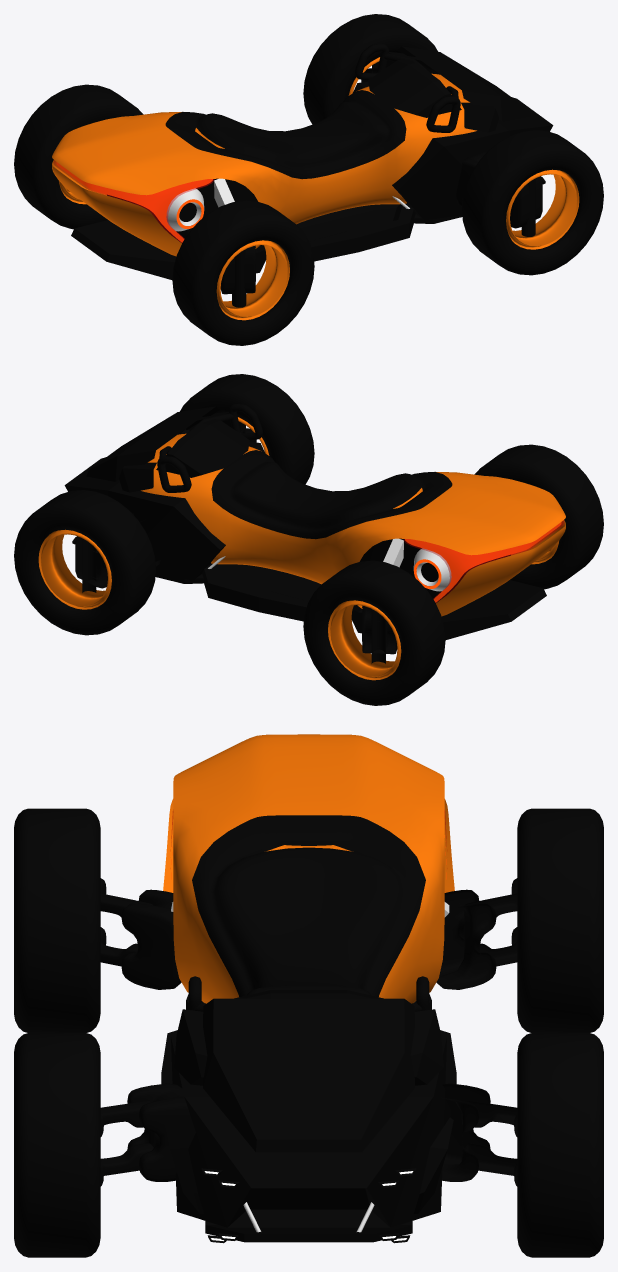
3 renders of one model, top to bottom at view 1: azimuth 30°, elevation 25°; view 2: azimuth 150°, elevation 25°; view 3: azimuth 270°, elevation 25°, orthographic. The views are drawn at different scales.
Parts seen in each view (by area): view 1: Cube.013_18, FR_5, BR_2, BL_1, FL_4, Cylinder.008_3, KPBR_7, KPFR_9; view 2: Cube.013_18, FL_4, BL_1, BR_2, FR_5, Cylinder.008_3, KPBL_6, KPFL_8; view 3: Cube.013_18, FL_4, FR_5, BL_1, BR_2, Cylinder.008_3, susL.001_15, susR.001_17, susL_14, susR_16.
Part boxes in pixels (x1,y1,x2,y2): Cube.013_18: (52,46,553,279); FR_5: (461,130,603,275); BR_2: (172,200,314,345); BL_1: (14,84,143,229); FL_4: (303,14,439,124); Cylinder.008_3: (355,44,460,132); KPBR_7: (220,246,255,307); KPFR_9: (510,176,542,236); Cube.013_18: (64,406,565,639); FL_4: (14,490,156,635); BL_1: (303,560,445,705); BR_2: (474,444,603,589); FR_5: (178,374,314,484); Cylinder.008_3: (157,404,262,492); KPBL_6: (362,606,397,663); KPFL_8: (75,536,107,592); Cube.013_18: (121,734,496,1243); FL_4: (517,1033,603,1257); FR_5: (14,1033,100,1257); BL_1: (517,808,603,1032); BR_2: (14,808,100,1032); Cylinder.008_3: (188,976,429,1011); susL.001_15: (461,1143,517,1175); susR.001_17: (100,1143,153,1175); susL_14: (461,1101,517,1127); susR_16: (100,1101,150,1127).
Size of the model in its own units: 2.58 by 0.7805 by 1.77.
